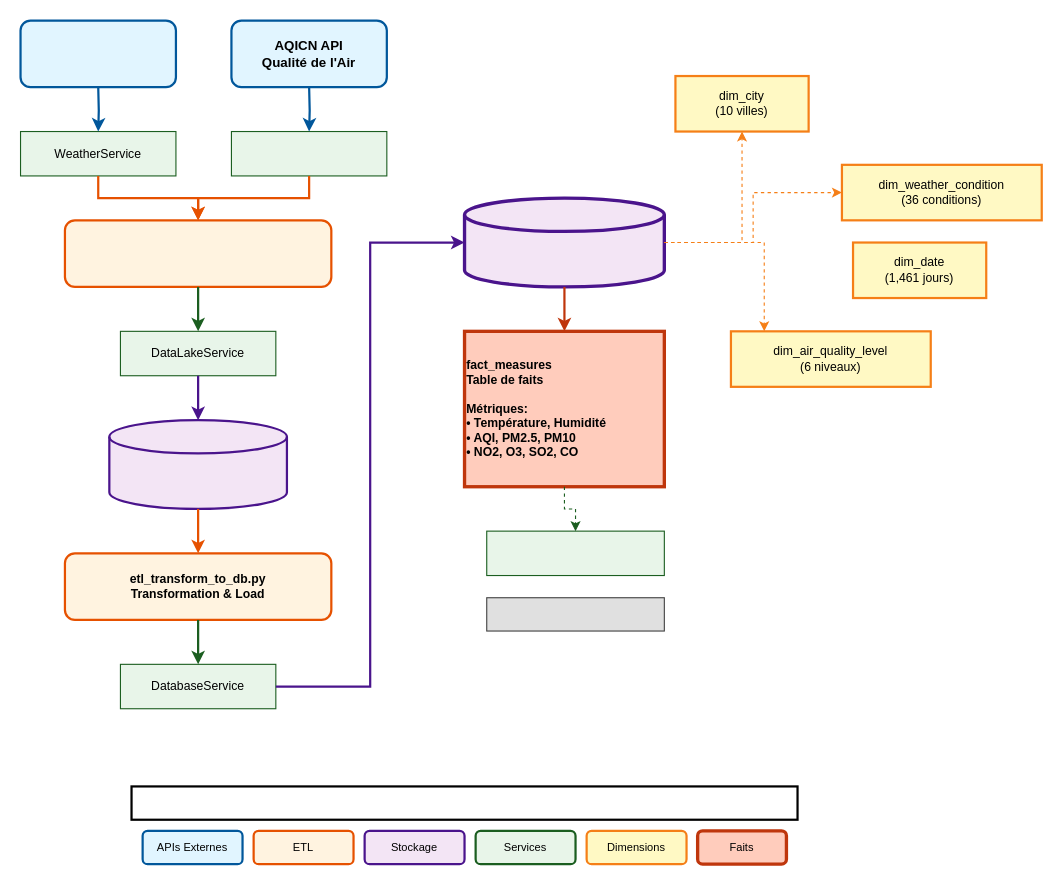
The diagram is 1061 pixels wide and 885 high, and some of its shapes have lost their labels. Here are the shapes that lost their labels. From the top down, the centre of each, then its label:
point (97, 53): OpenWeather API Données Météo
point (308, 153): AirQualityService
point (197, 253): etl_extract_to_lake.py Collecte données brutes
point (563, 242): Data Warehouse Supabase PostgreSQL
point (197, 463): raw_data_lake Data Lake JSONB Supabase Table
point (575, 553): AnomalyDetectionService
point (575, 614): anomaly_functions.sql
point (464, 802): LÉGENDE
